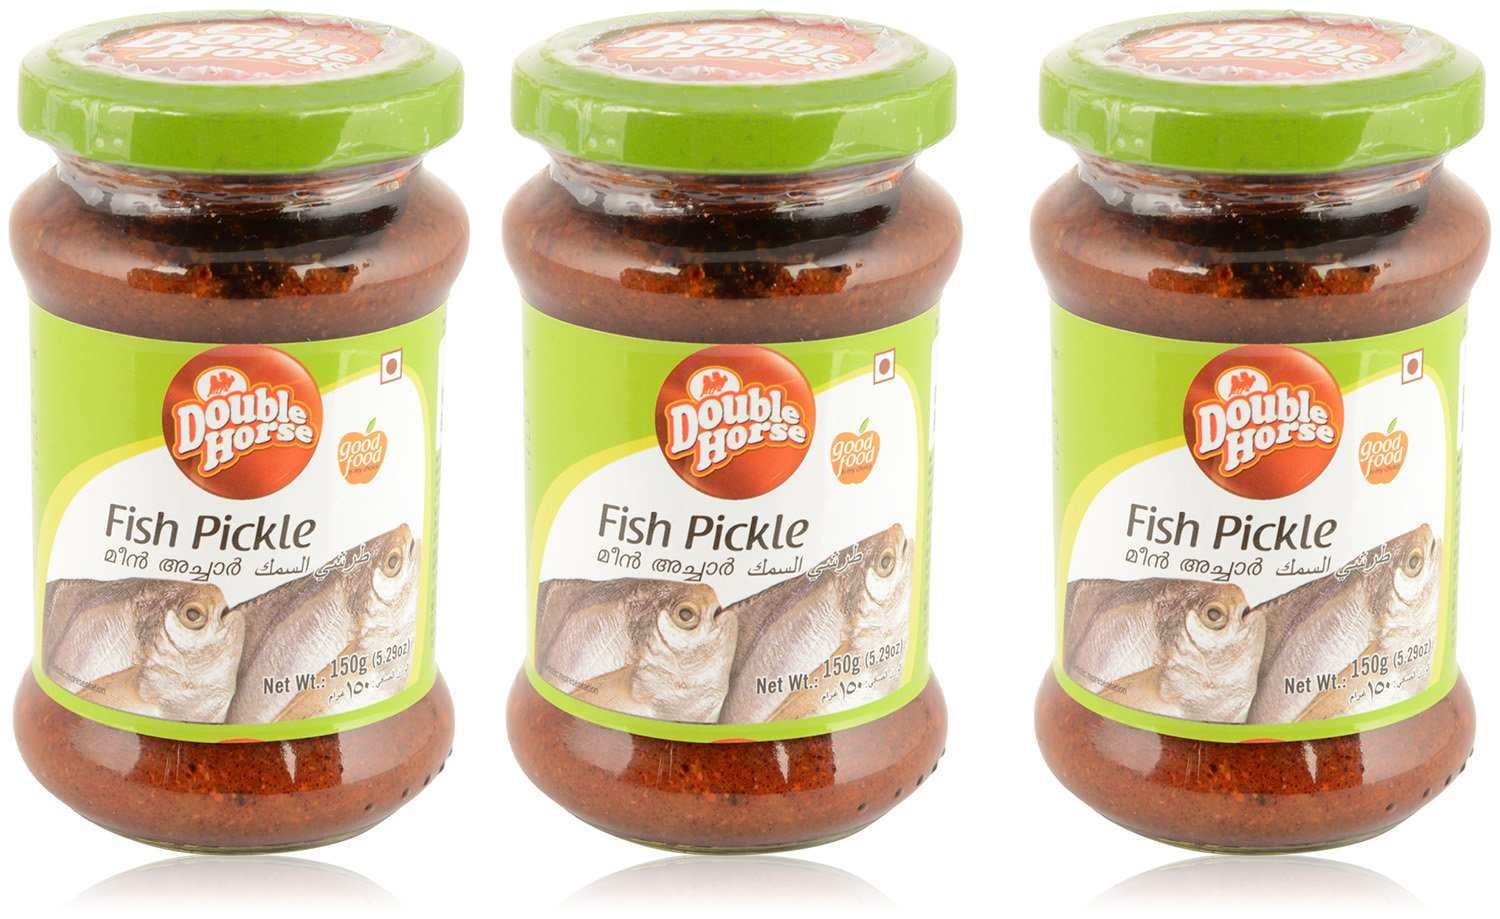nonveg_red: (1400, 344, 1426, 387), (871, 346, 897, 386), (380, 346, 404, 385)
